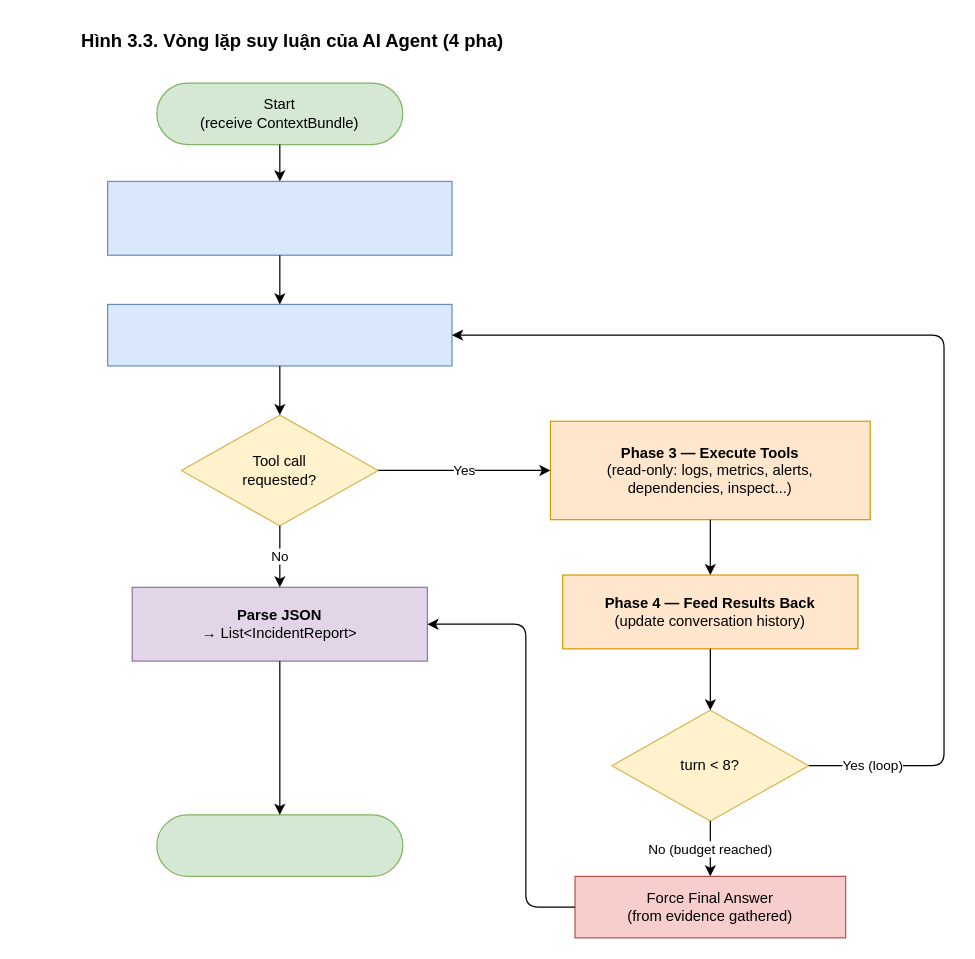
Image size: 975x959. Some labels were removed from this diagram. The centre of each missing label's shape, as x and y in pixels:
"End (return incident reports)" goes at pixel 279 845.
"Phase 1 — Assemble Context system prompt + bundle + output schema" goes at pixel 279 217.
"Phase 2 — Call LLM" goes at pixel 279 334.
